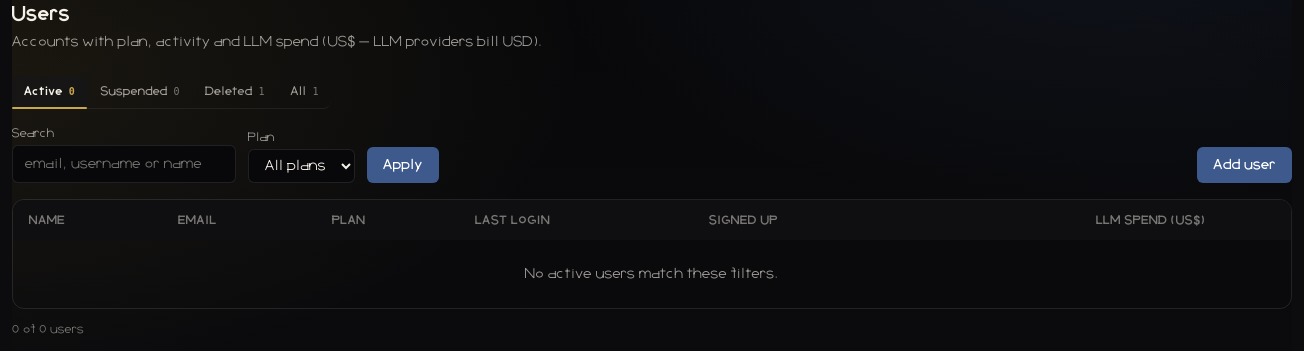
Test case: lifecycle view tabs (ADMIN-MGMT E2) › flags the deleted row, with Restore and Purge, once the Deleted tab is opened
Click the tab with test id "admin-users-view-tab-deleted" at (235, 92), box 194,76 -> 276,108
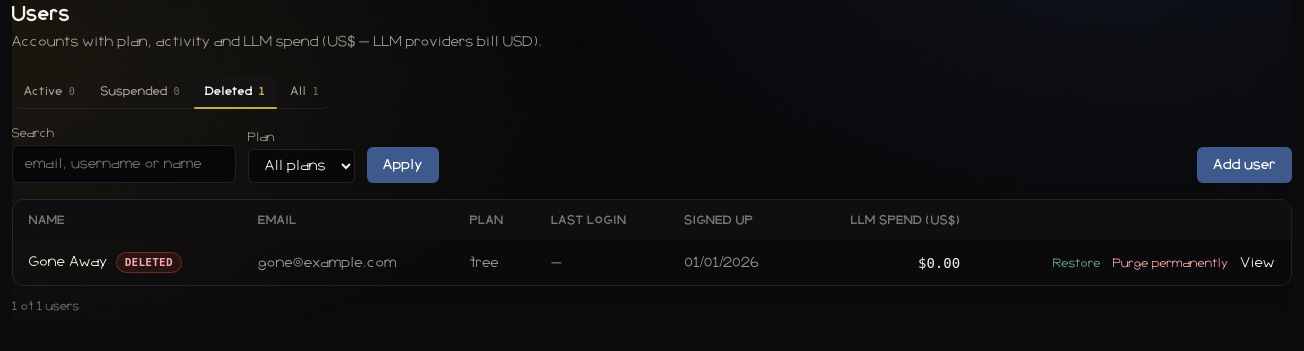
Expected: the row with test id "admin-user-row-u-del" shows "deleted", 125,256 -> 173,269
Expected: the button with test id "admin-restore-user-u-del" is shown, 1053,255 -> 1101,271
Expected: the button with test id "admin-purge-user-u-del" is shown, 1113,255 -> 1228,271
